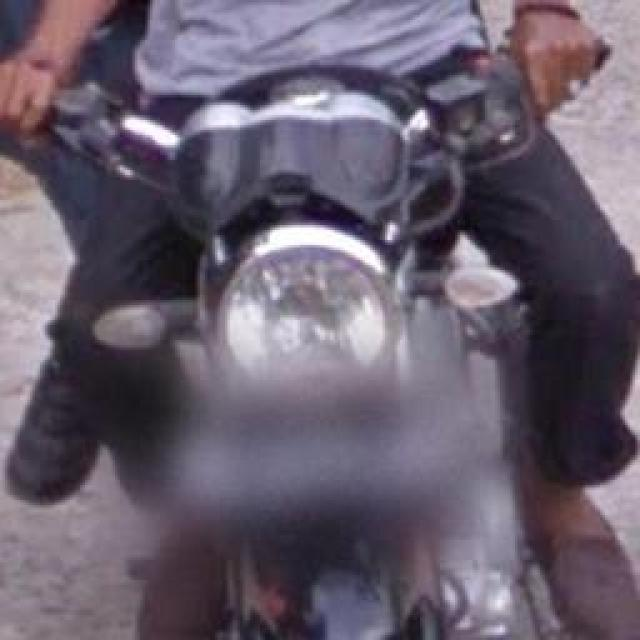motorcycle: (60, 72, 588, 638)
